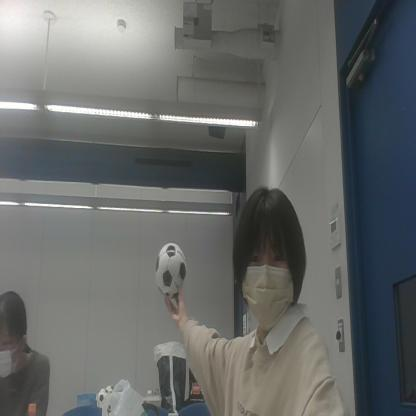ball: (155, 241, 187, 296)
